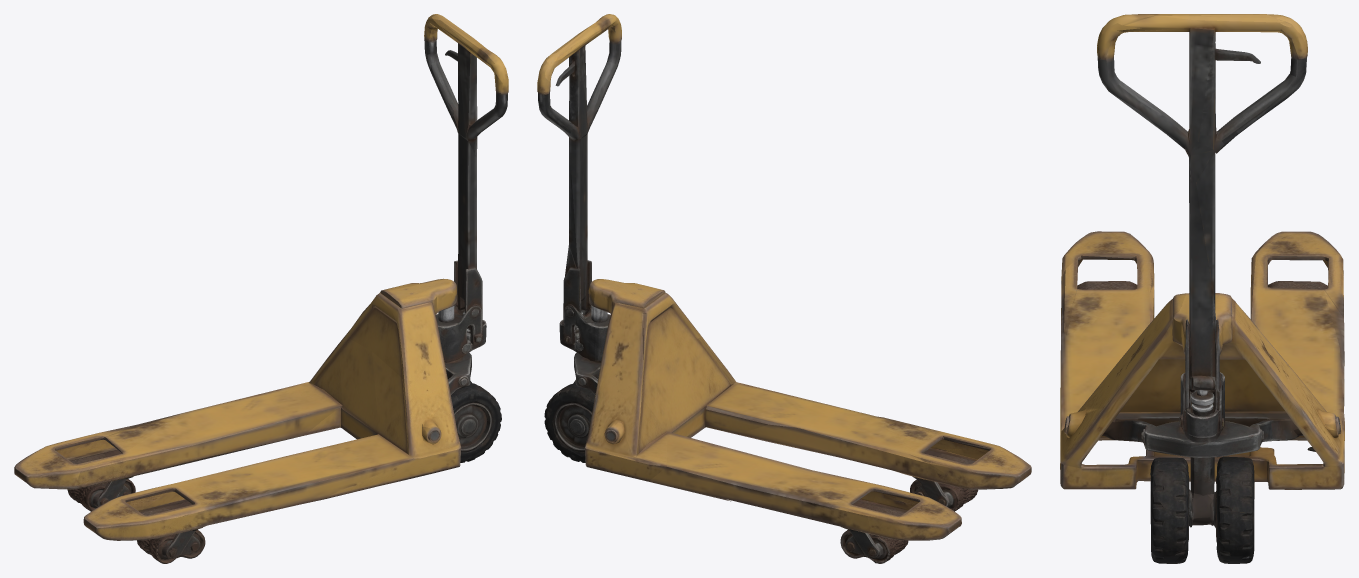
Rendered from transpallet.glb.
3 views of the same model, side by side, from view 1: azimuth 30°, elevation 25°; view 2: azimuth 150°, elevation 25°; view 3: azimuth 270°, elevation 25° (orthographic). The views are drawn at different scales.
Visible parts, largest first — view 1: Mesh_0; view 2: Mesh_0; view 3: Mesh_0.
Boxes of the visible parts, left/top/right/bottom form: Mesh_0: left=14, top=14, right=508, bottom=563; Mesh_0: left=537, top=14, right=1031, bottom=563; Mesh_0: left=1060, top=14, right=1344, bottom=563.
Size of the model in its own units: 1.9 by 1.74 by 0.8047.
1 material, 1 textured.
